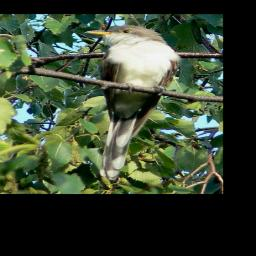Cuckoo: (84, 23, 180, 181)
